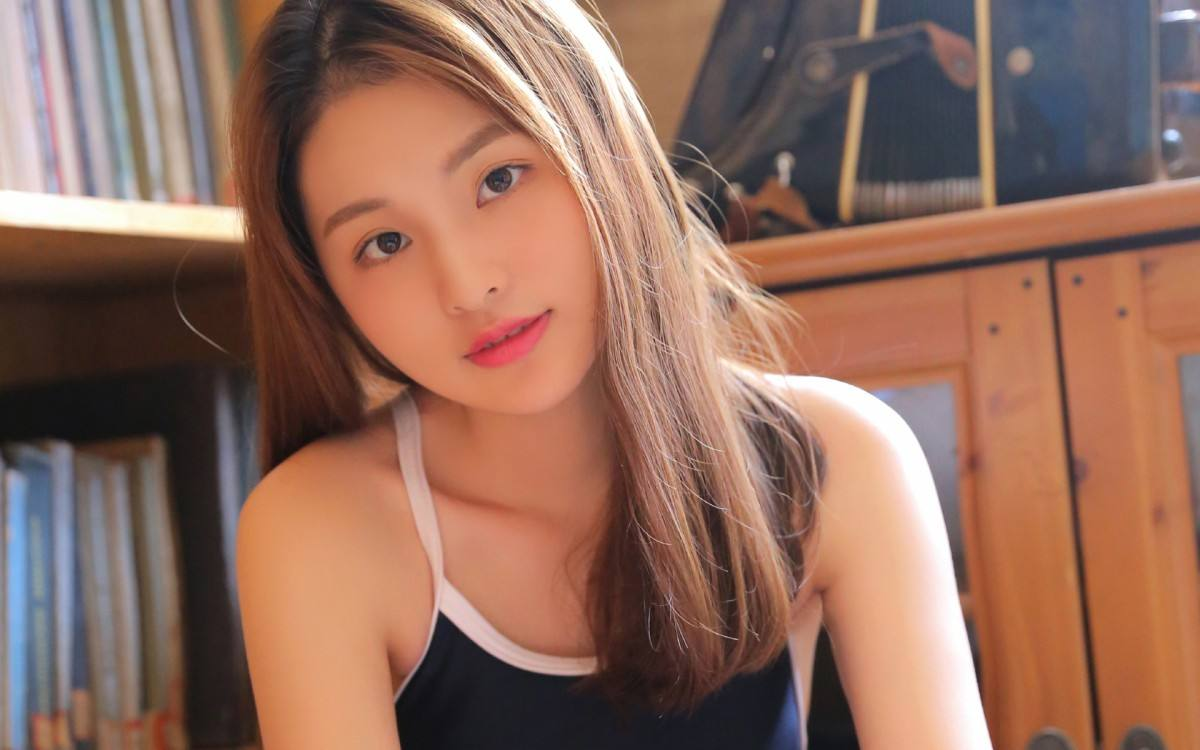person: (122, 22, 1025, 739)
